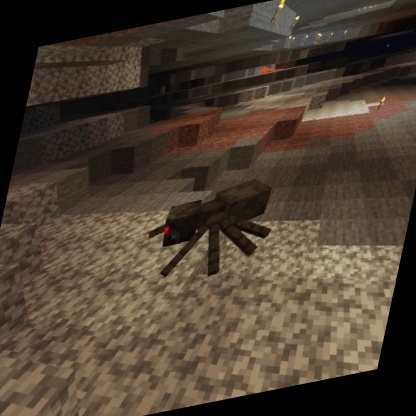spider: (133, 171, 285, 294)
